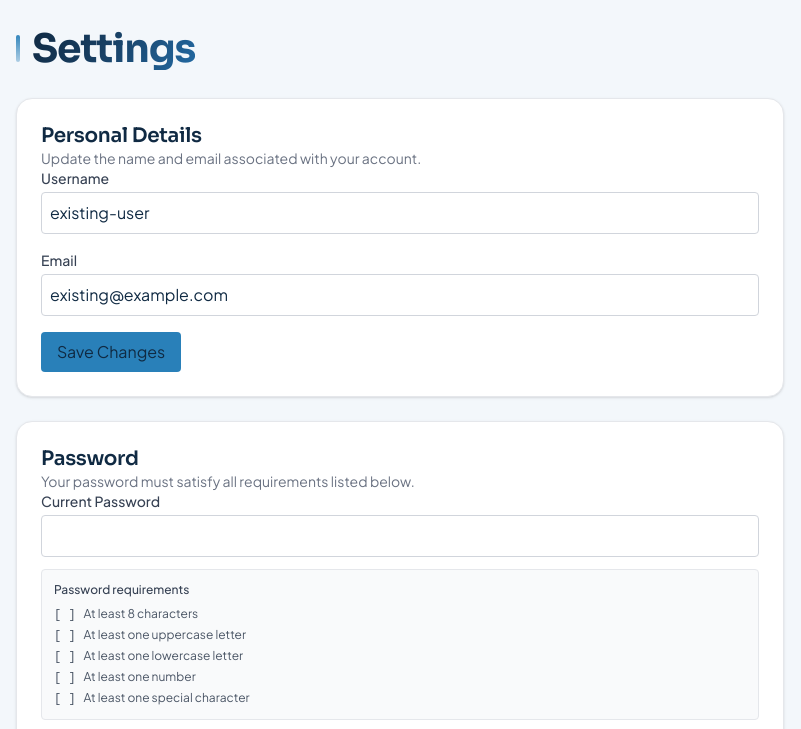
Scenario: Settings page › updates password and clears password inputs on success
In the password field labelled "Current Password": (400, 536) 41,515 -> 759,557, type "OldPass1!"
(page scrolled)
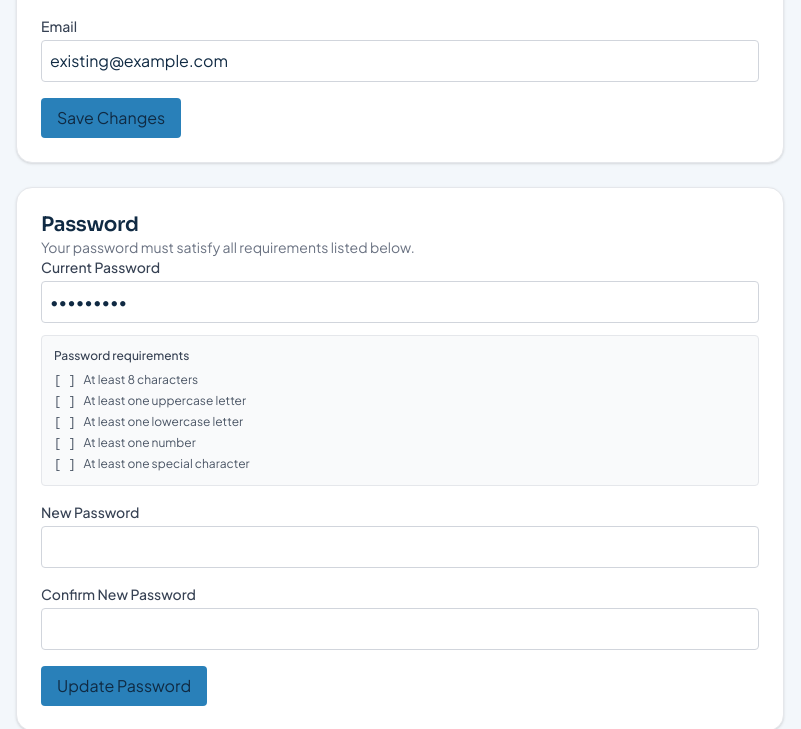
In the password field labelled "New Password": (400, 547) 41,526 -> 759,568, type "NewPass1!"
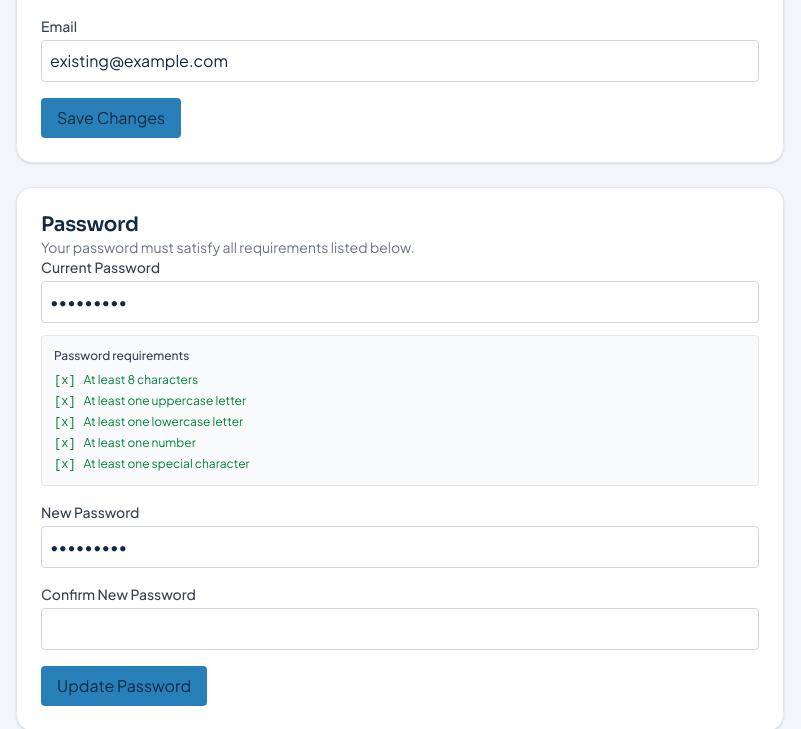
In the password field labelled "Confirm New Password": (400, 629) 41,608 -> 759,650, type "NewPass1!"
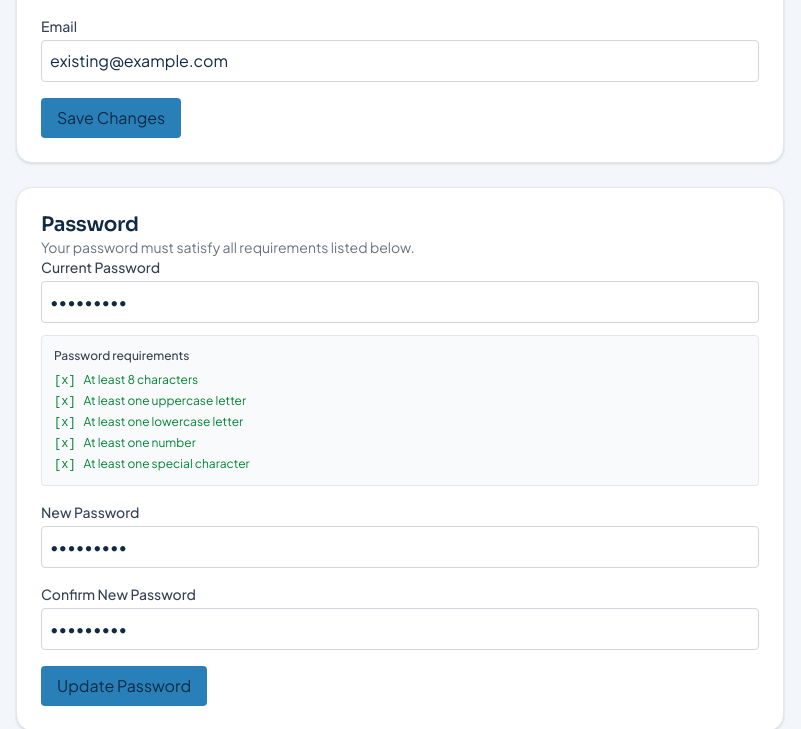
Click the button "Update Password": click(124, 686) 41,666 -> 207,706
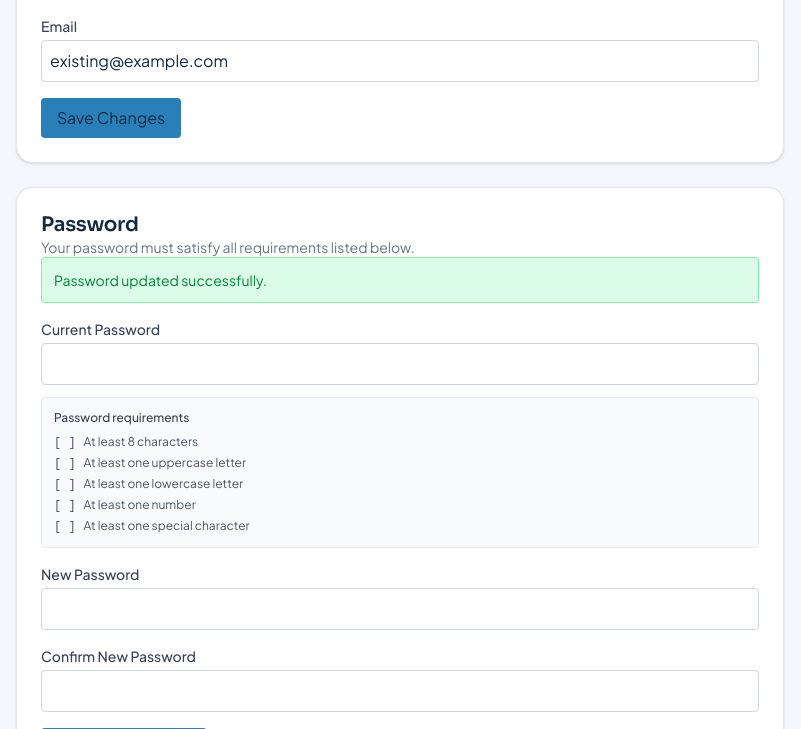
Now the text "Password updated successfully." is shown, box 41,257 -> 759,303
Now the password field labelled "Current Password" is empty, box 41,343 -> 759,385
Now the password field labelled "New Password" is empty, box 41,588 -> 759,630
